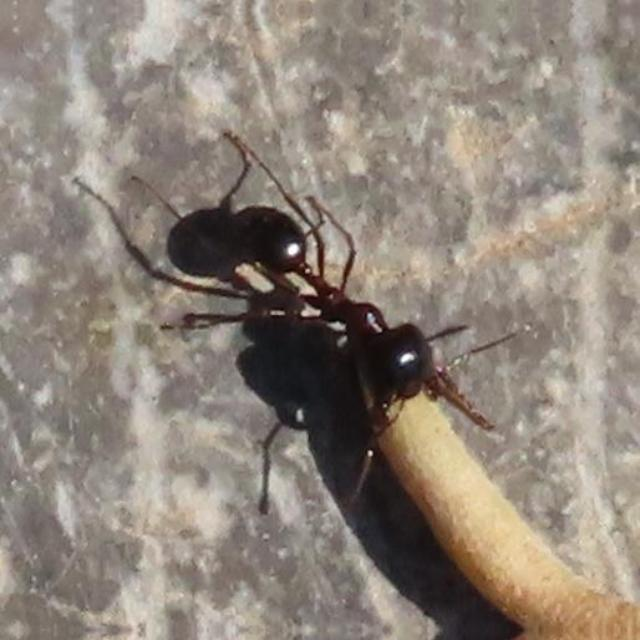Messor: (166, 130, 499, 468)
